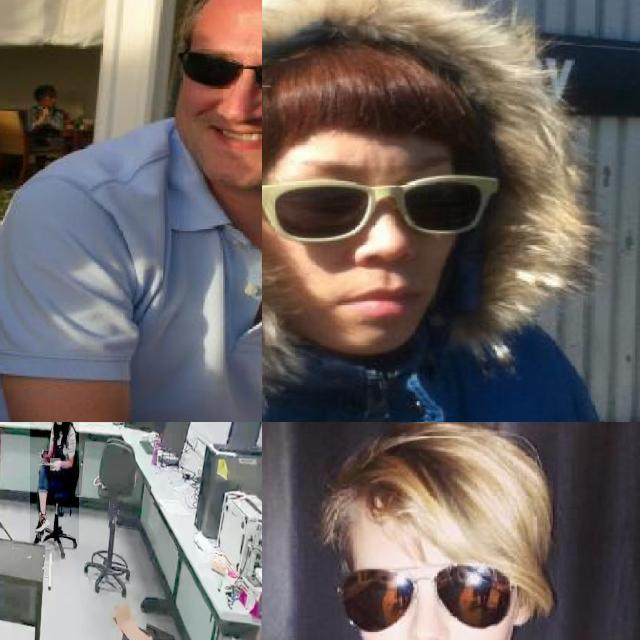face_mask: (50, 422, 67, 434)
face_nomask: (262, 163, 475, 332), (349, 558, 497, 640), (184, 42, 262, 159)
glasses: (262, 152, 497, 246), (333, 557, 533, 631), (174, 44, 262, 100)
hand_noglove: (50, 458, 61, 471), (42, 451, 52, 463)
head_nohelmet: (262, 9, 490, 160), (319, 428, 544, 540)
person: (262, 0, 609, 422), (6, 0, 262, 422), (262, 422, 640, 640), (30, 422, 79, 544)
shoes: (33, 507, 51, 537)
